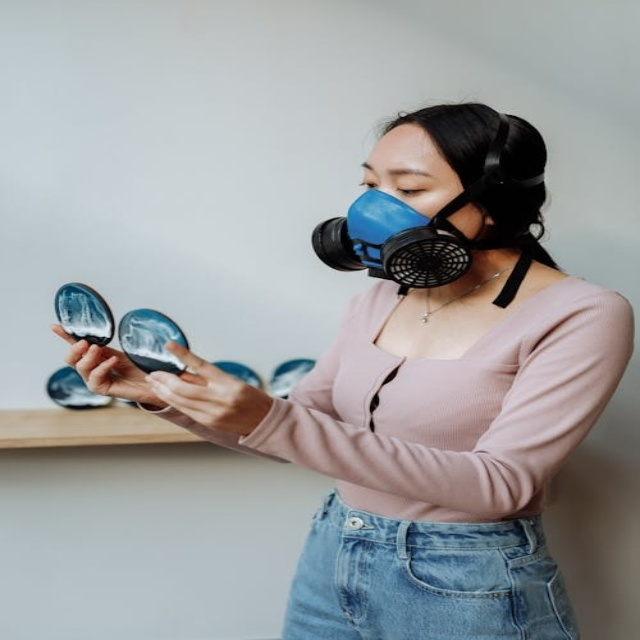Mascara: (346, 189, 436, 271)
Sin_gafas: (396, 187, 426, 196), (362, 182, 377, 189)
Sin_guantes: (141, 326, 273, 440), (36, 317, 147, 414)
